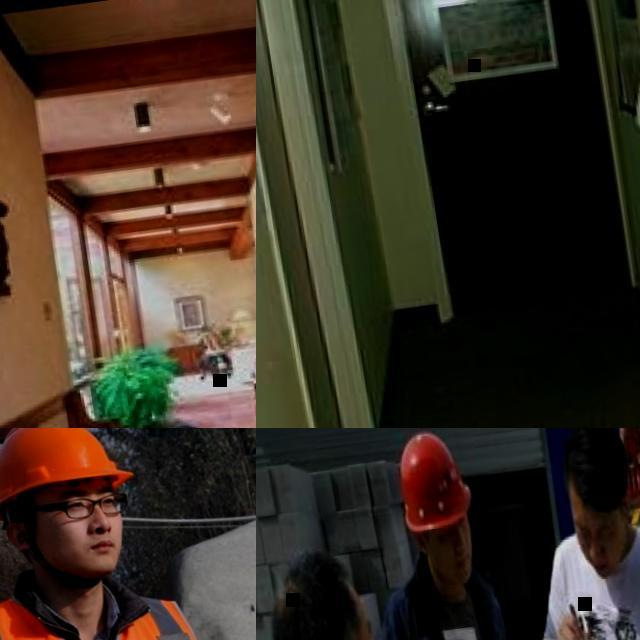helmet: (0, 428, 134, 509), (387, 428, 477, 535)
vest: (0, 573, 235, 640)
